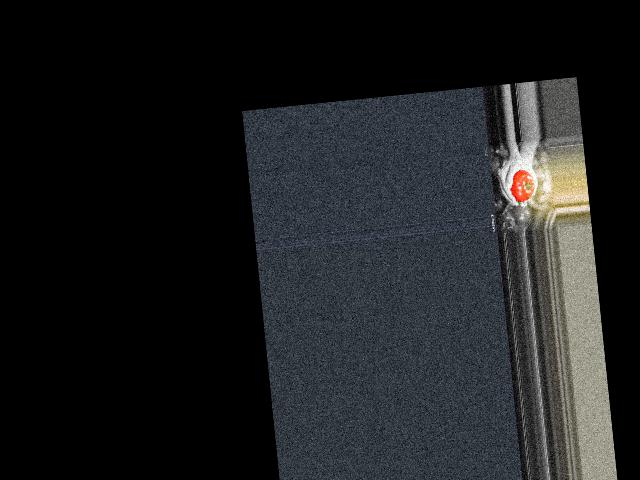tomato: (508, 168, 535, 202)
